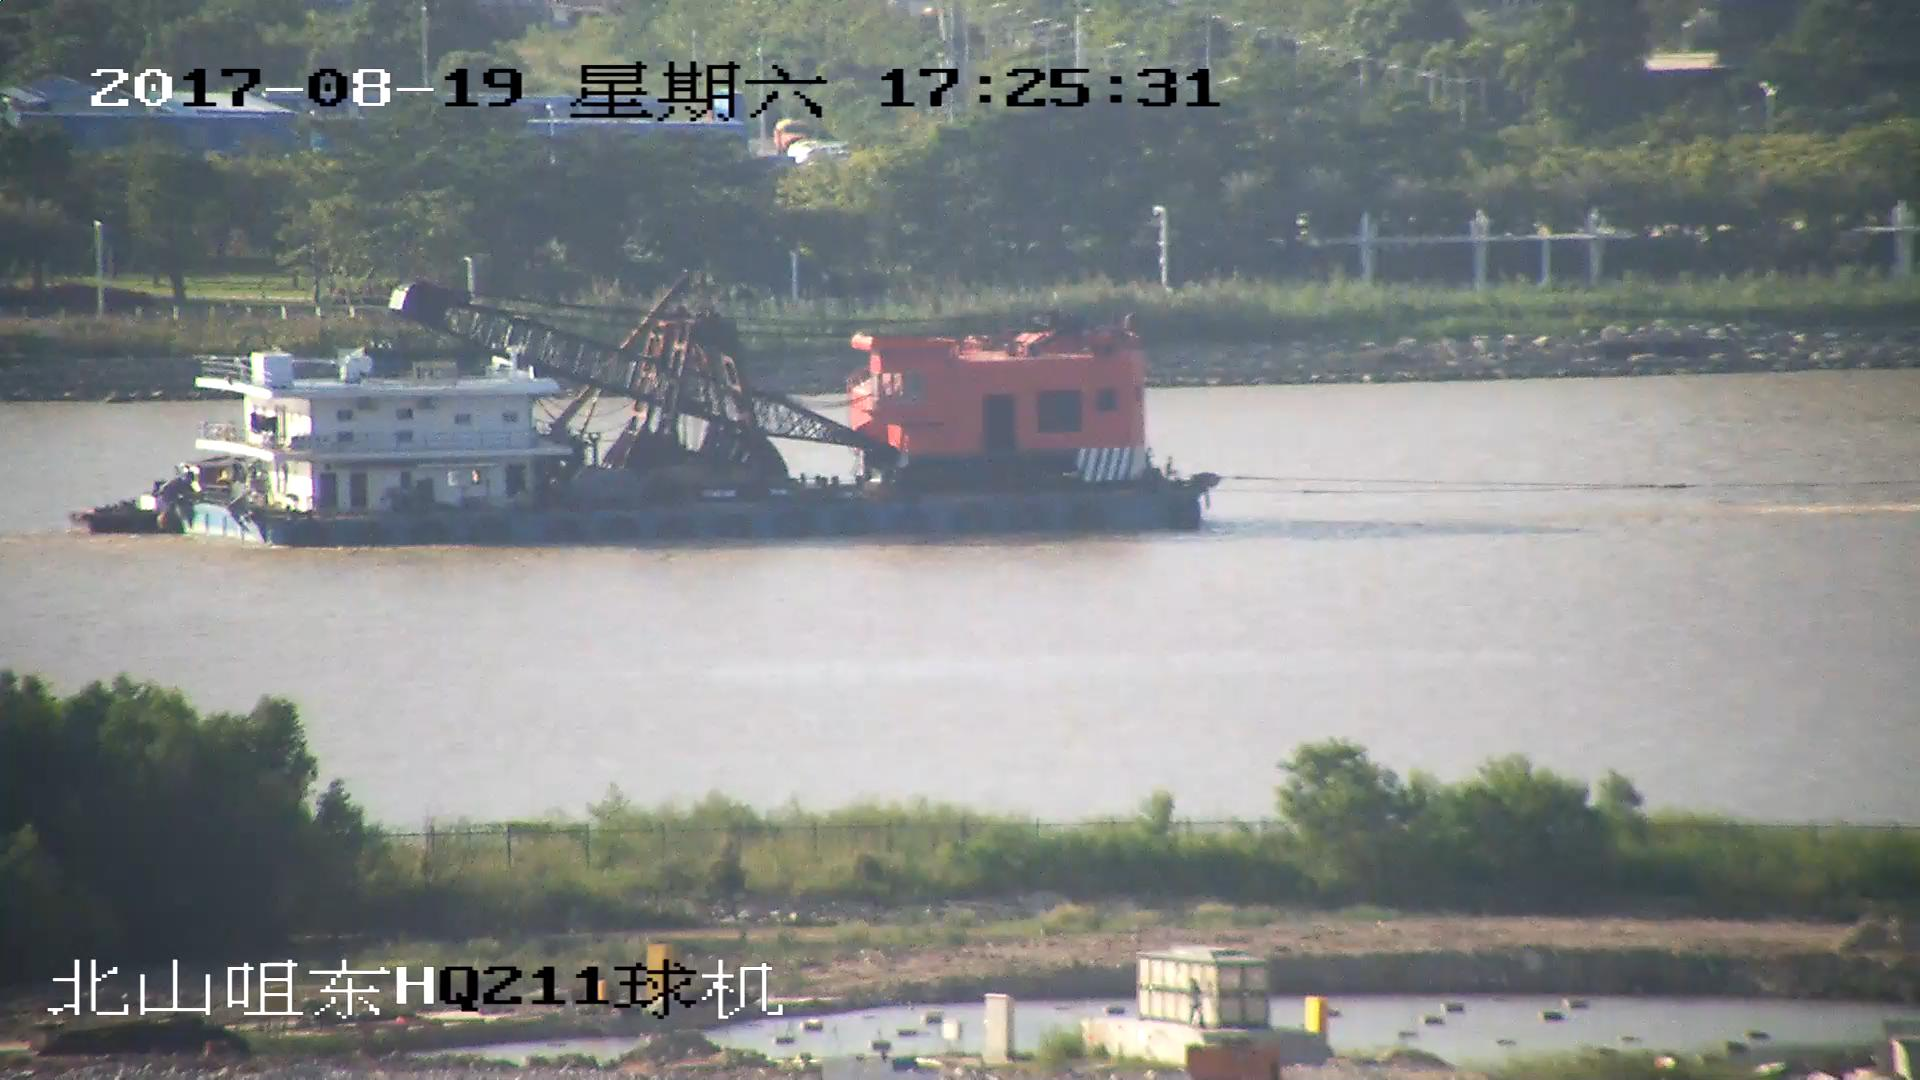fishing boat: (79, 284, 1218, 555)
